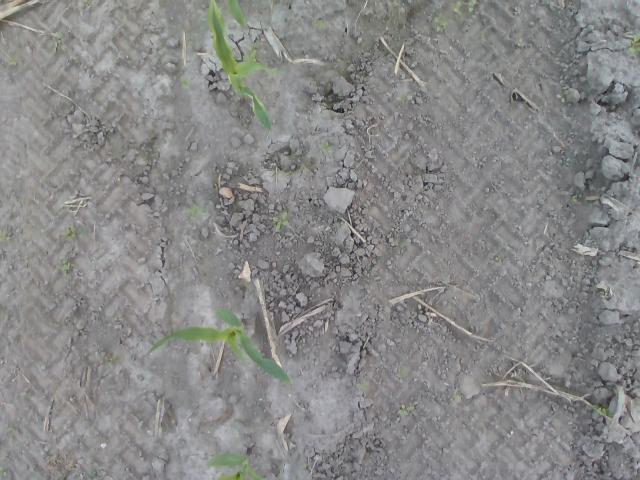Maize: (144, 306, 294, 390), (208, 1, 290, 133), (204, 446, 271, 480)
Weeds: (64, 224, 86, 244), (270, 211, 290, 232), (453, 1, 480, 15), (592, 402, 612, 419), (629, 31, 640, 58), (184, 204, 204, 218), (318, 140, 336, 155), (434, 15, 448, 32), (556, 88, 569, 105), (50, 32, 61, 52), (2, 55, 22, 66), (1, 456, 10, 480), (398, 406, 416, 418), (354, 382, 369, 395), (0, 227, 10, 246), (60, 262, 74, 274), (313, 16, 326, 28), (104, 355, 117, 366), (397, 366, 408, 378), (514, 36, 524, 48), (89, 471, 101, 480), (454, 390, 463, 402), (181, 76, 190, 86), (398, 242, 408, 249)
